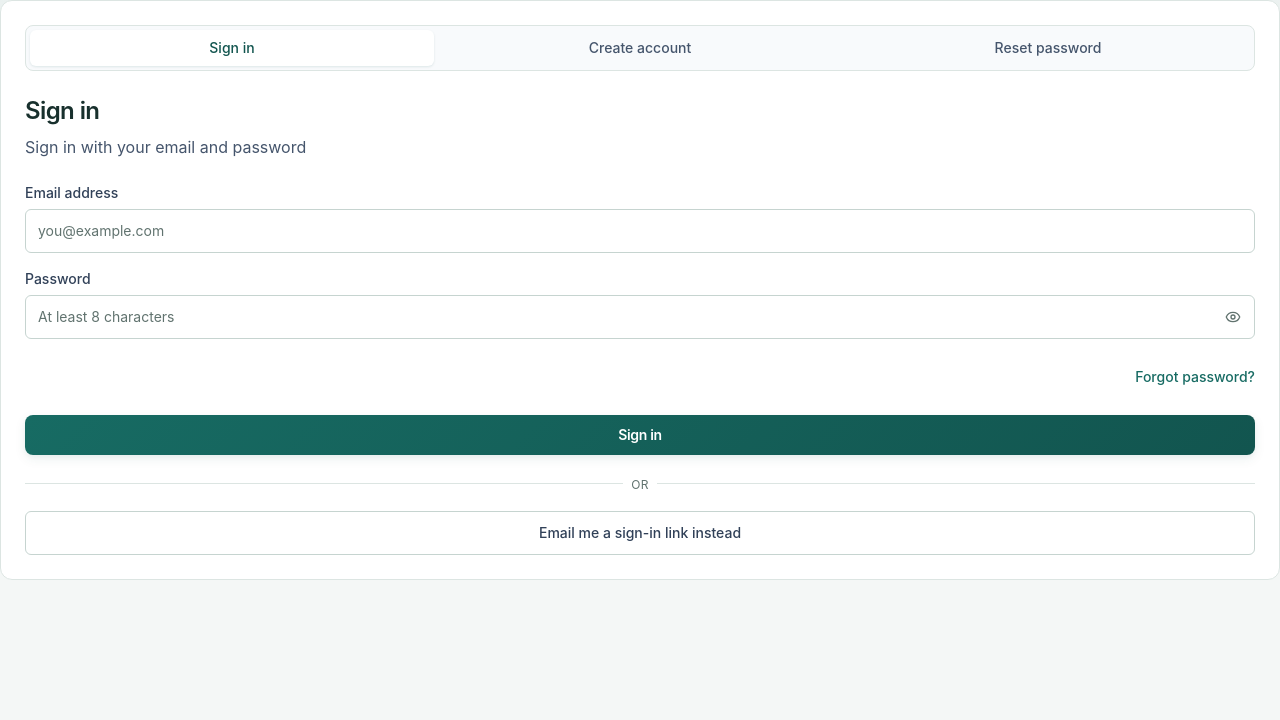
Test: AuthPanel › sign-in tab shows the password form and submits credentials
Check: the heading "Sign in" is shown, box [25,96,99,125]
Check: the password field labelled "Password" is shown, box [25,295,1255,339]
Type "user@example.com" into the field labelled "Email address" at coordinates (640, 231), box [25,209,1255,253]
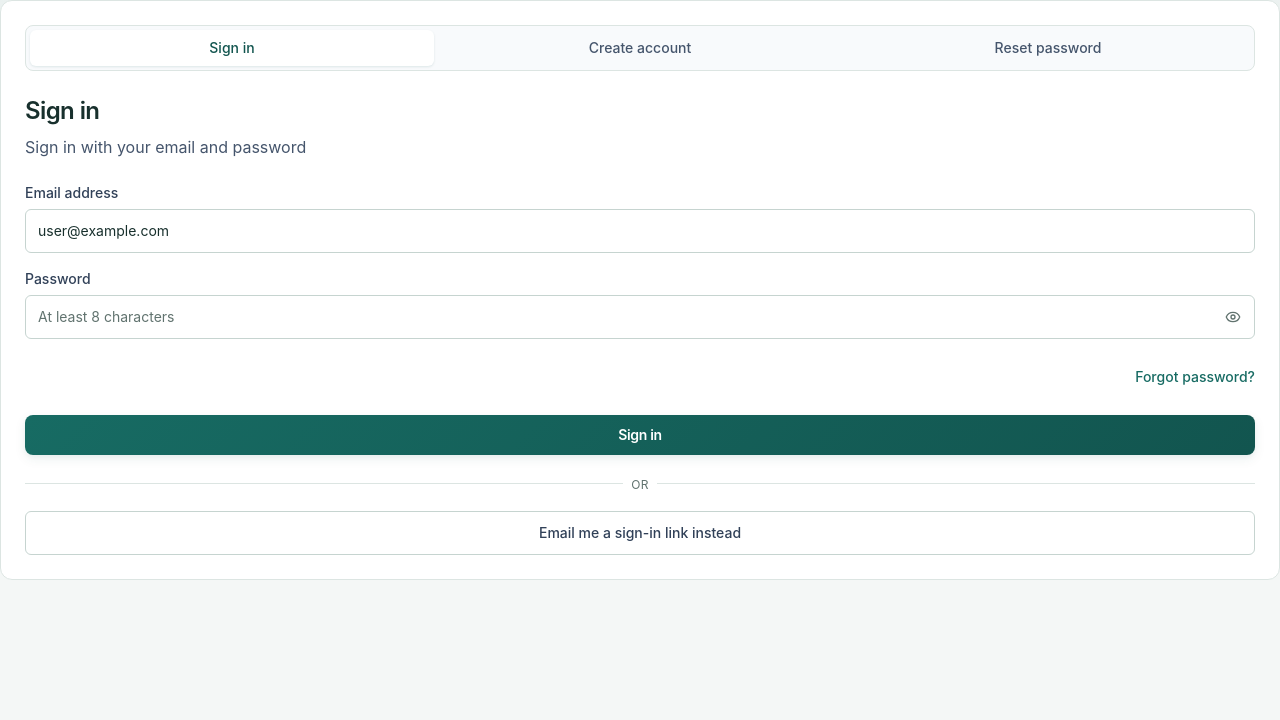
Type "secret123" into the password field labelled "Password" at coordinates (640, 317), box [25,295,1255,339]
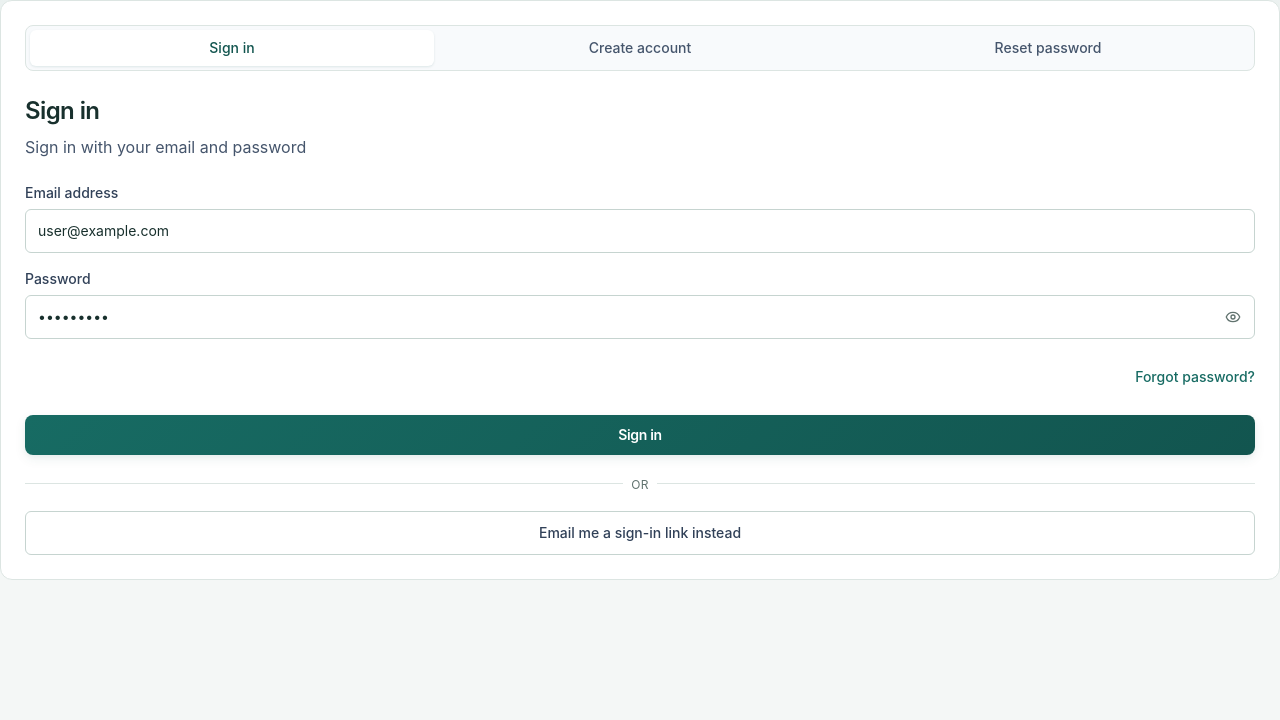
Click the button "Sign in" at coordinates (640, 435), box [25,415,1255,455]
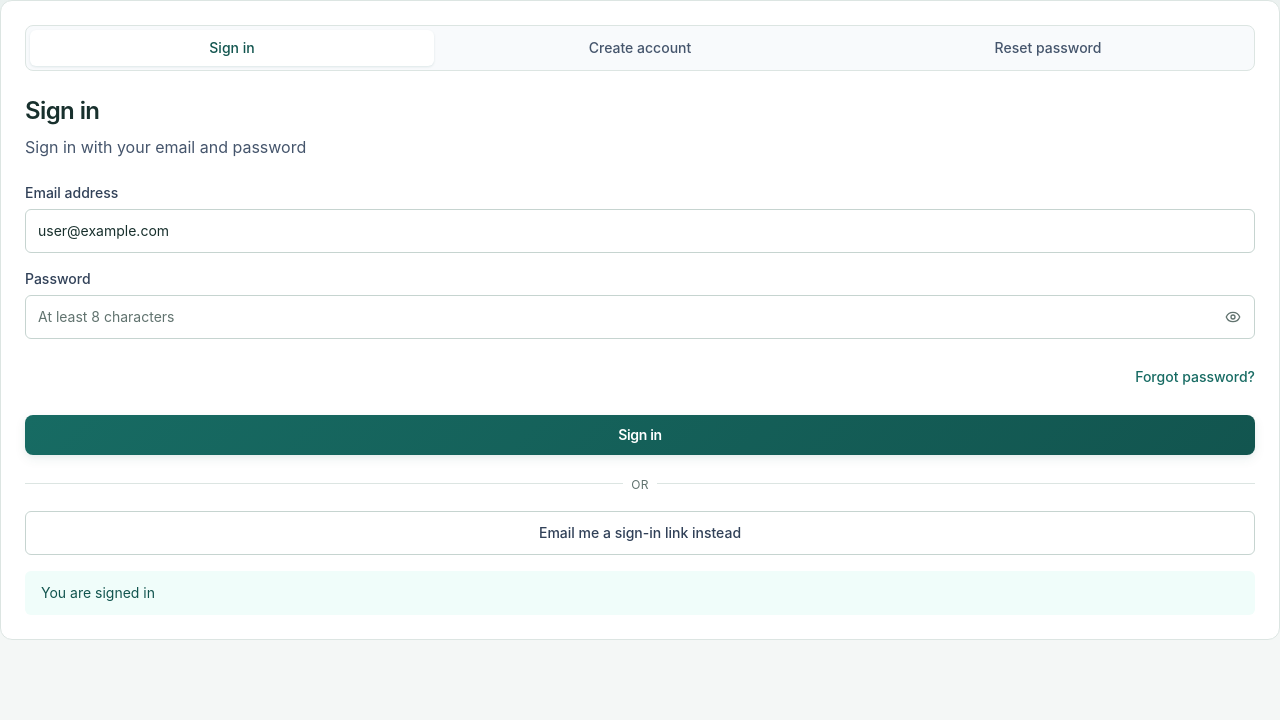
Check: the message reads "You are signed in", box [41,584,155,601]
